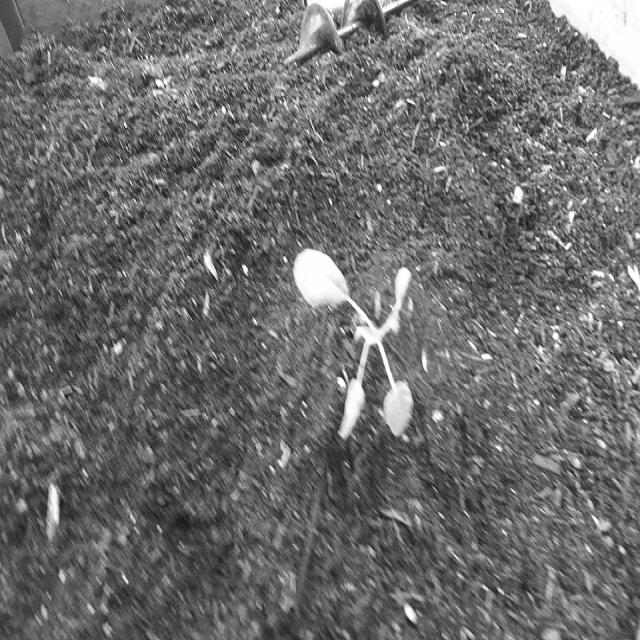Healthy: (291, 241, 419, 451)
